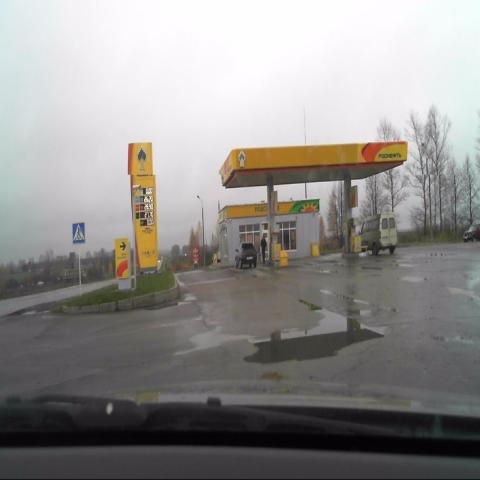5_19_1: (72, 219, 86, 244)
